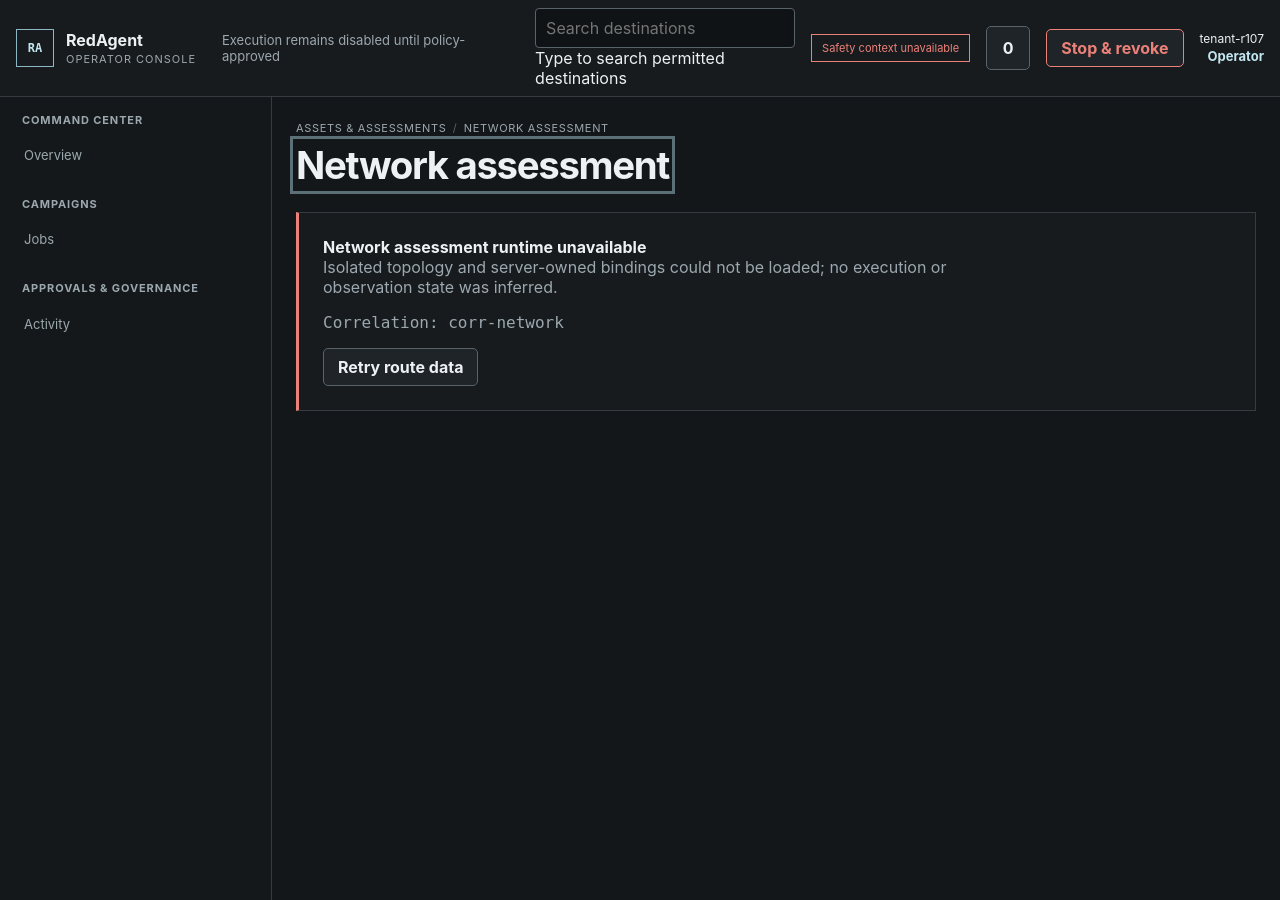
Test: projects a correlated network outage and retries without inferring observation state
Expected: the message "Network assessment runtime unavailable" is shown, [296, 212, 1256, 411]
Expected: the text "Correlation: corr-network" is shown, [323, 313, 564, 332]
Click the button "Retry route data" at coordinates (401, 367), box [323, 348, 478, 386]
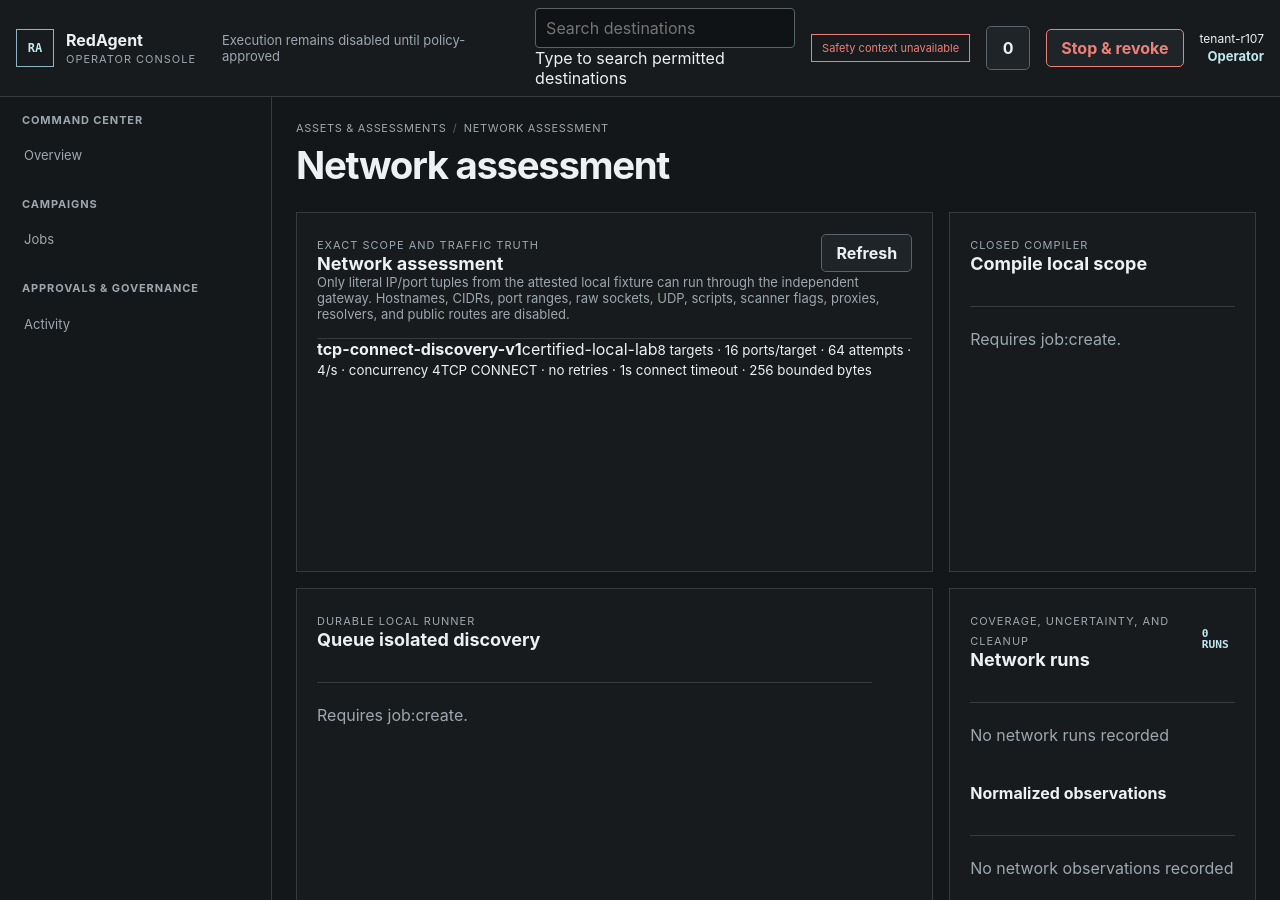
Now the text "No network observations recorded" is shown, box [970, 835, 1235, 899]
